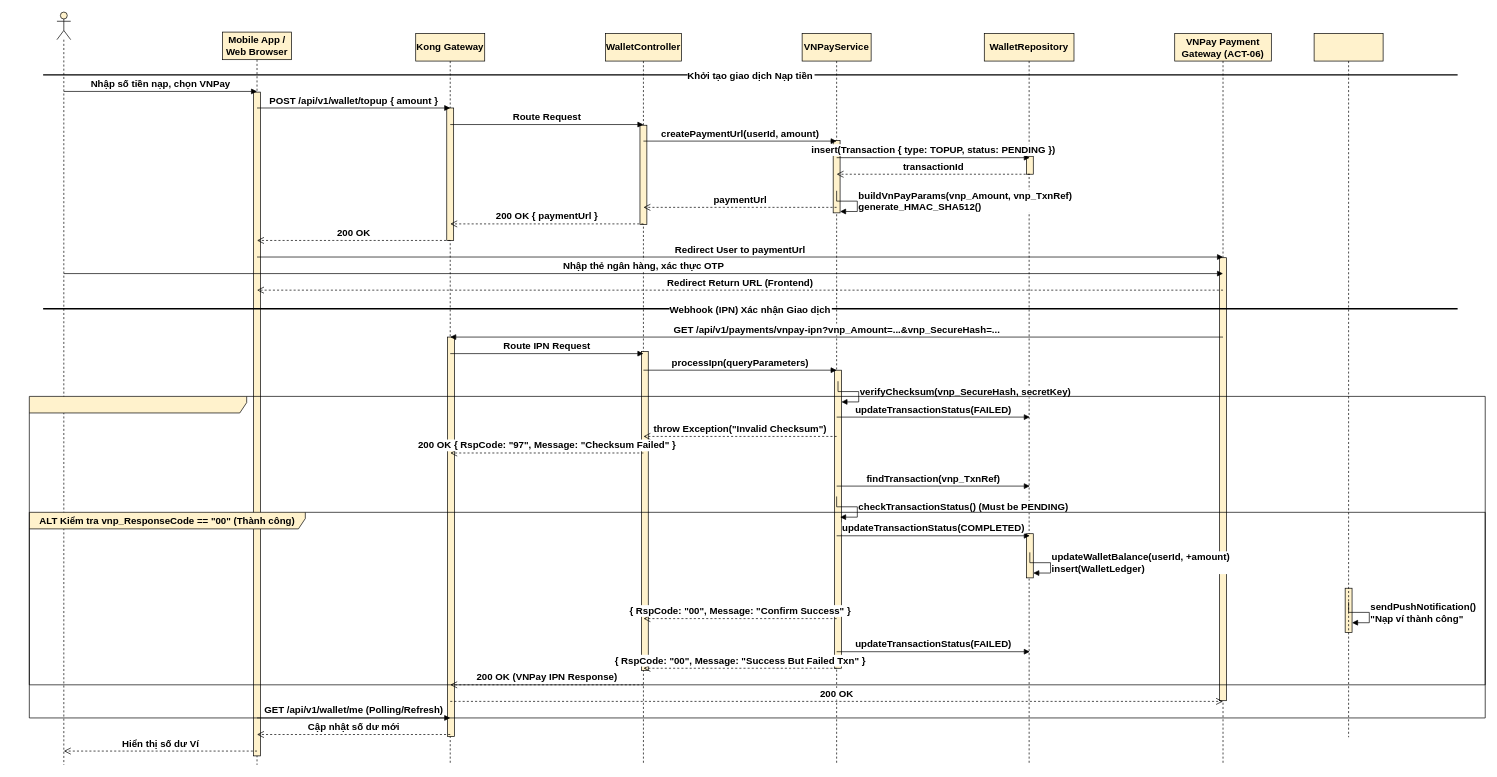
The diagram is 1497 pixels wide and 777 high, and some of its shapes have lost their labels. Each missing label, with the box of its shape:
ALT Sai chữ ký / Phát hiện gian lận: (29, 396, 1485, 718)
Người dùng (ACT-02): (56, 11, 71, 765)
Notification Service: (1313, 33, 1383, 737)
